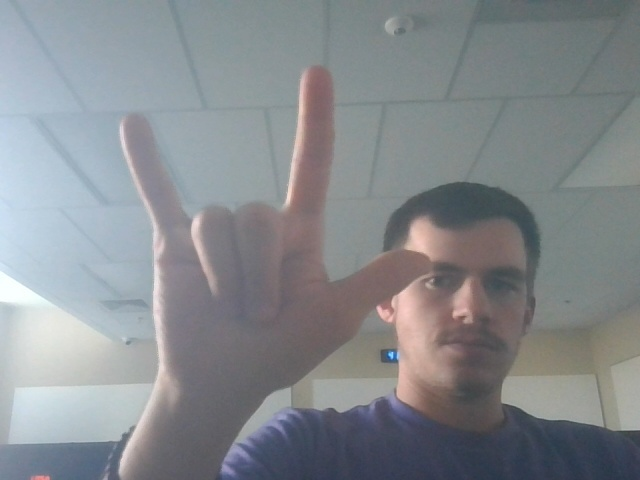iloveyou: (112, 56, 434, 411)
